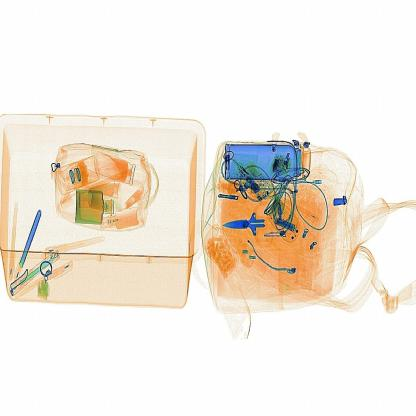gun: (217, 201, 286, 250)
